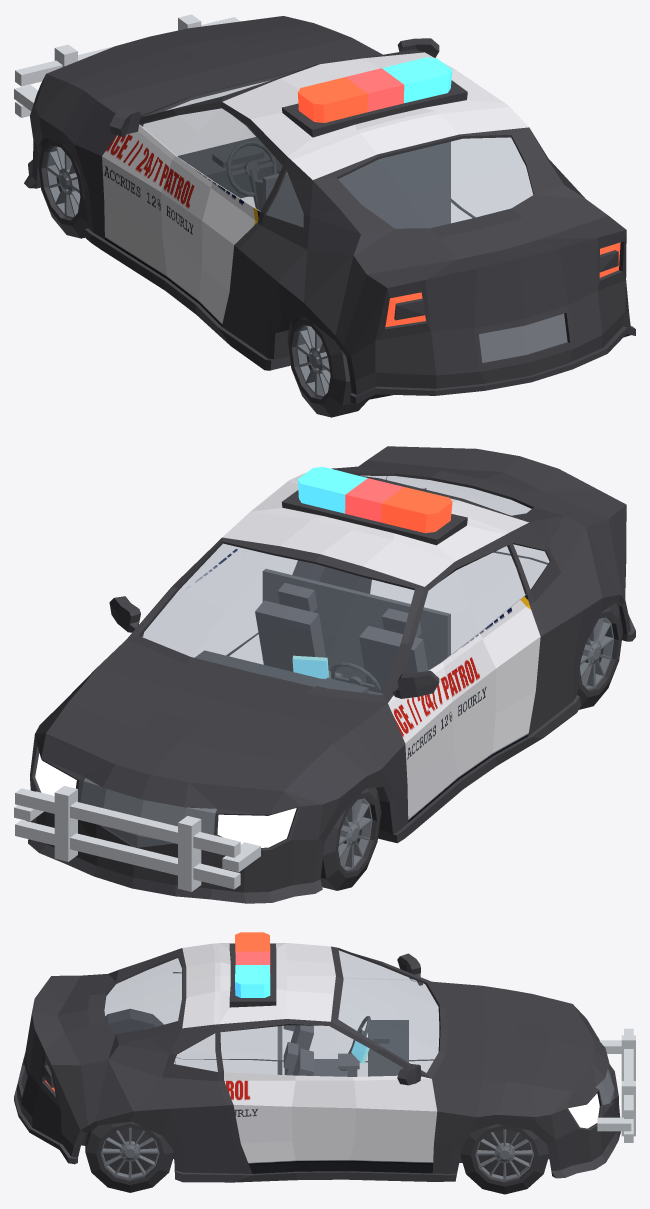
File: security_interceptor.glb
3 views of the same model, one above another, from view 1: azimuth 30°, elevation 25°; view 2: azimuth 150°, elevation 25°; view 3: azimuth 270°, elevation 25° (orthographic). The views are drawn at different scales.
Visible parts, largest first — view 1: SecurityInterceptor_Mesh, Interceptor_Interior, Cop_BackWheels_Cylinder.001, Cop_FrontLeftWheel_Cylinder.011; view 2: SecurityInterceptor_Mesh, Interceptor_Interior, Cop_BackWheels_Cylinder.001, Cop_FrontLeftWheel_Cylinder.011; view 3: SecurityInterceptor_Mesh, Cop_BackWheels_Cylinder.001, Interceptor_Interior, Cop_FrontRightWheel_Cylinder.012.
Part boxes in pixels (x1,y1,x2,y2): SecurityInterceptor_Mesh: (14, 14, 635, 404); Interceptor_Interior: (178, 137, 450, 228); Cop_BackWheels_Cylinder.001: (287, 317, 368, 417); Cop_FrontLeftWheel_Cylinder.011: (37, 138, 87, 238); SecurityInterceptor_Mesh: (14, 446, 635, 903); Interceptor_Interior: (194, 569, 450, 694); Cop_BackWheels_Cylinder.001: (292, 560, 622, 709); Cop_FrontLeftWheel_Cylinder.011: (320, 787, 381, 890); SecurityInterceptor_Mesh: (14, 932, 635, 1182); Cop_BackWheels_Cylinder.001: (85, 1008, 174, 1192); Interceptor_Interior: (277, 1016, 408, 1076); Cop_FrontRightWheel_Cylinder.012: (460, 1124, 549, 1194).
Size of the model in its own units: 2.41 by 1.68 by 5.16.
Materials: 13 (1 with a texture image).
